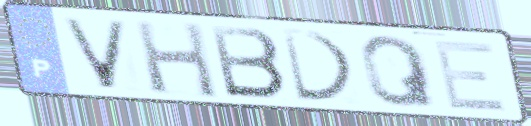B: (206, 23, 290, 102)
D: (278, 27, 361, 104)
E: (430, 39, 511, 115)
H: (130, 18, 223, 101)
Q: (356, 34, 441, 110)
V: (57, 15, 133, 91)
